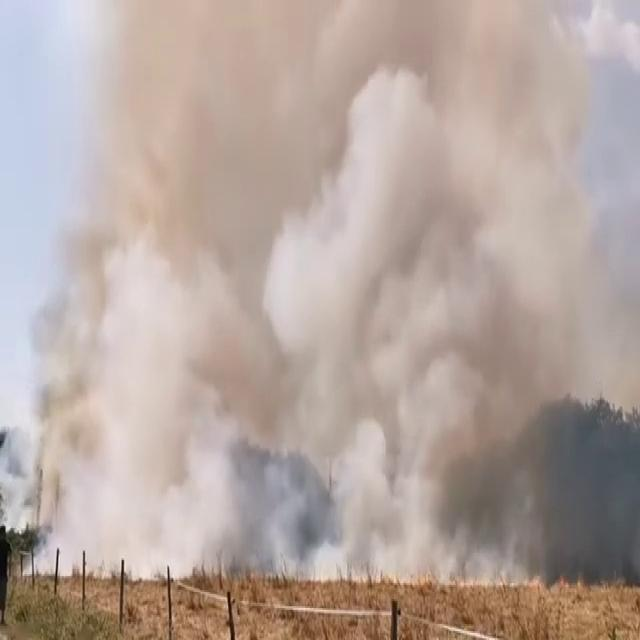Smoke: (5, 1, 638, 591)
